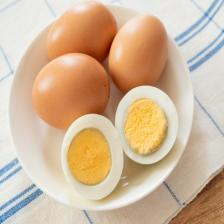egg: (30, 51, 110, 132), (61, 111, 124, 200), (114, 84, 179, 166), (108, 13, 169, 92), (45, 0, 118, 65)
